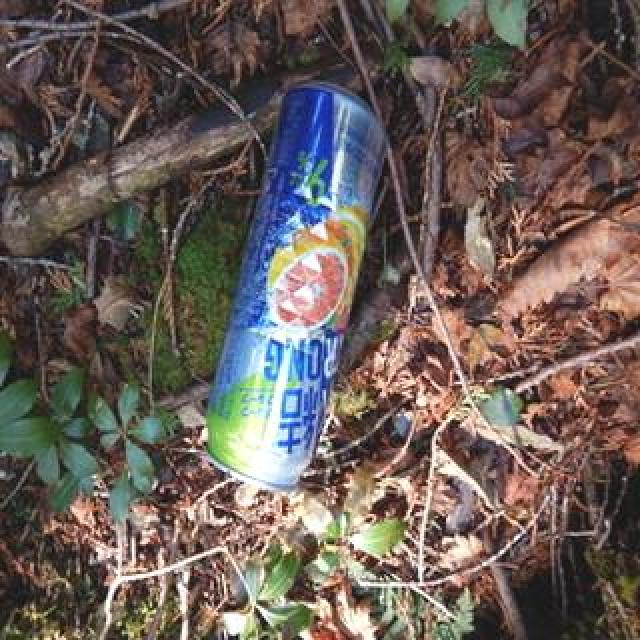Can: (195, 60, 387, 498)
